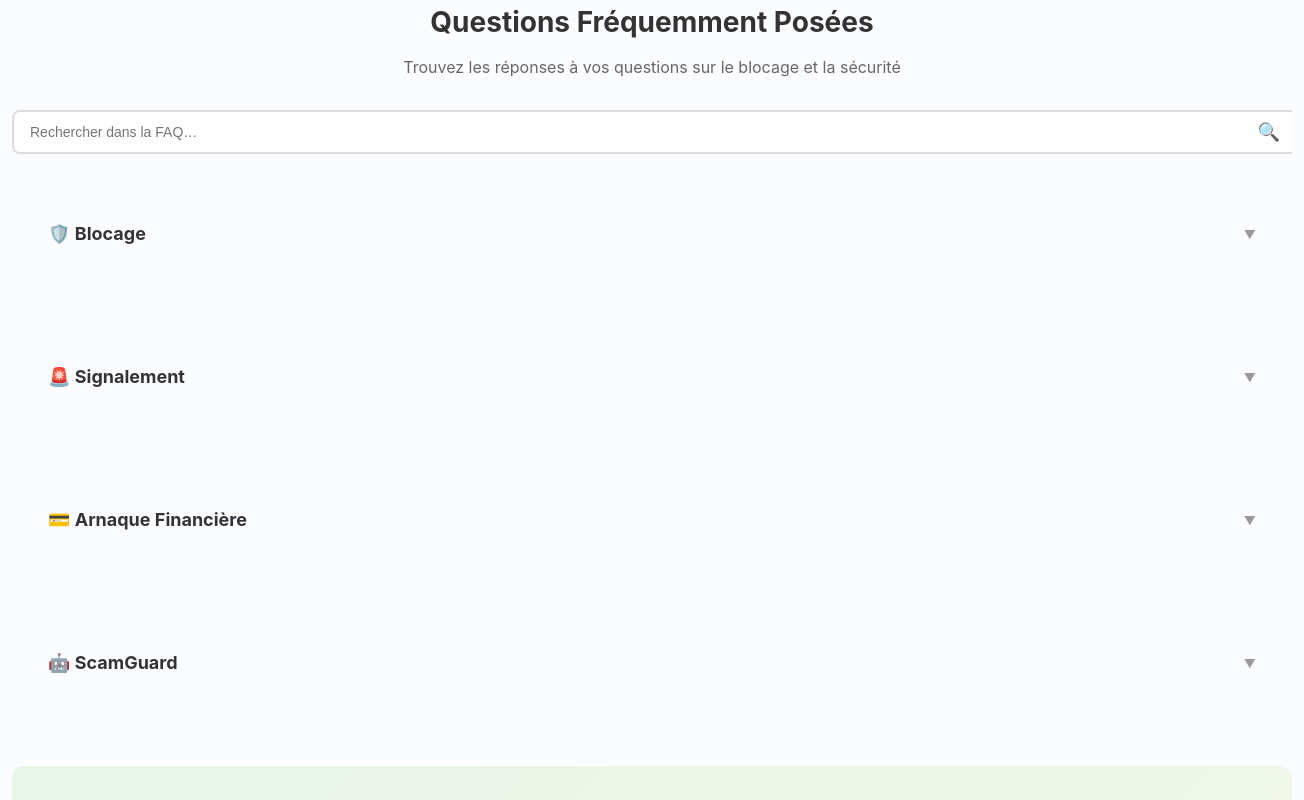
Test: FAQSection › Search Functionality › shows no results message when search matches nothing
This screenshot has width=1304, height=800.
Type "xyzabc123nonexistent" into the field with class "search-input" at (652,132), box x1=12 y1=110 x2=1292 y2=154
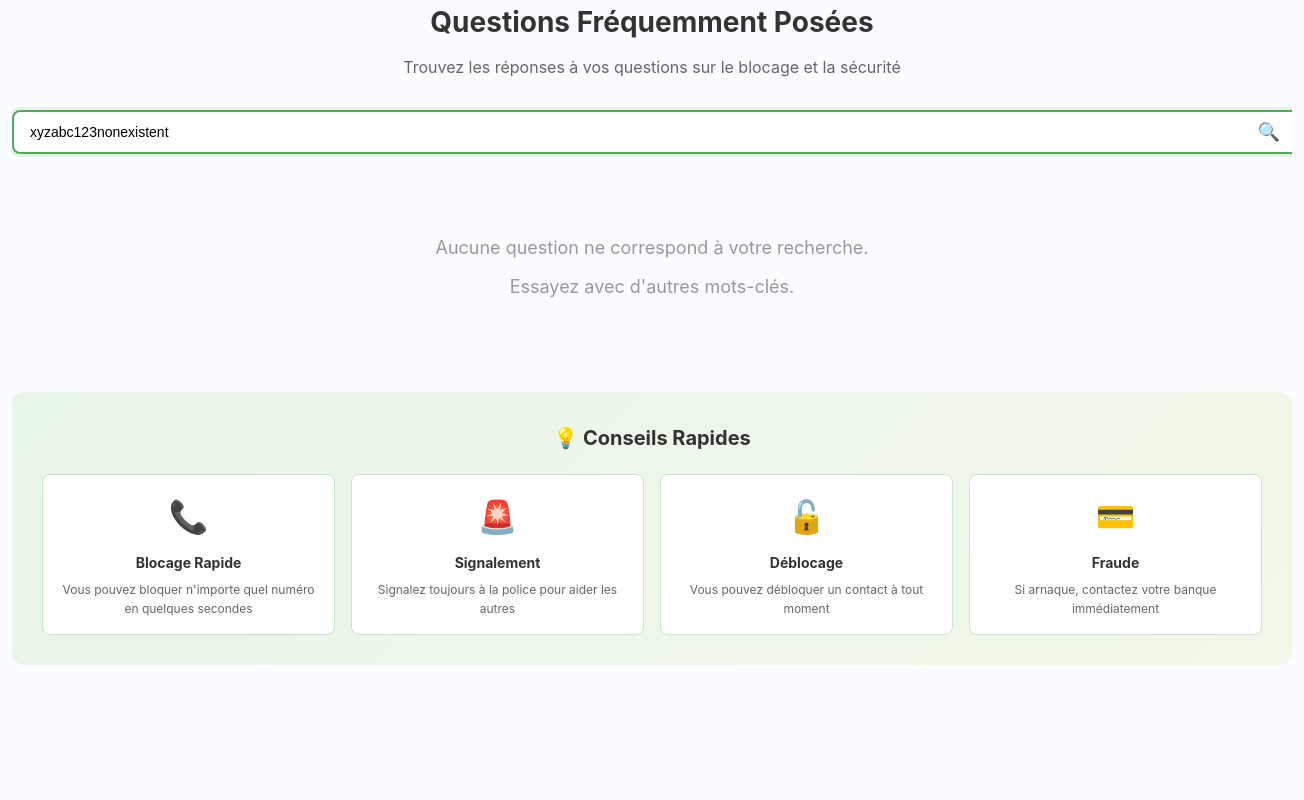
Result: the text "Aucune question ne correspond à votre recherche." is shown at x1=436 y1=237 x2=868 y2=258
